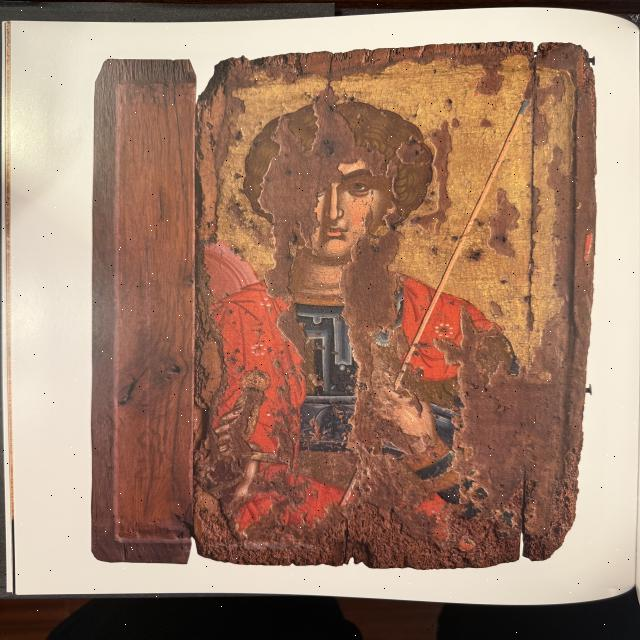spear: (331, 75, 545, 517)
